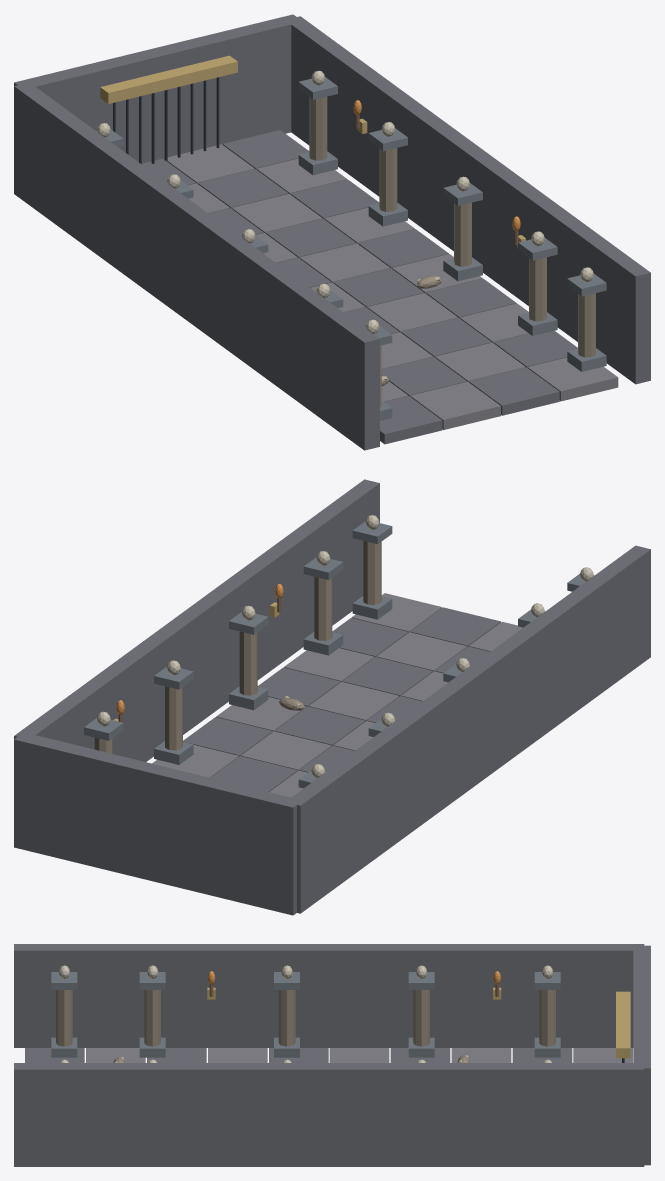
Rendered from environment_bone_passage.glb.
3 views of the same model, one above another, from view 1: azimuth 30°, elevation 25°; view 2: azimuth 150°, elevation 25°; view 3: azimuth 270°, elevation 25° (orthographic). The views are drawn at different scales.
Parts seen in each view (by area): view 1: left_corridor_wall, right_corridor_wall, far_end_wall, end_gate_lintel, passage_tile_1_9, passage_tile_2_9, passage_tile_3_9, passage_tile_2_3, passage_tile_2_1, passage_tile_2_4, passage_tile_2_5, passage_tile_2_6 (+26 smaller); view 2: left_corridor_wall, far_end_wall, right_corridor_wall, passage_tile_2_4, passage_tile_2_6, passage_tile_2_9, passage_tile_2_7, passage_tile_2_8, passage_tile_2_5, passage_tile_3_4, passage_tile_3_6, passage_tile_3_7 (+14 smaller); view 3: right_corridor_wall, left_corridor_wall, far_end_wall, end_gate_lintel, passage_bone_pillar_2, passage_bone_pillar, passage_bone_pillar_1, passage_bone_pillar_3, passage_bone_pillar_4, passage_tile_0_4, passage_tile_0_6, passage_tile_0_2 (+17 smaller).
Part boxes in pixels (x1,y1,x2,y2): left_corridor_wall: (14,82,379,450); right_corridor_wall: (286,16,650,384); far_end_wall: (14,14,298,163); end_gate_lintel: (100,55,237,103); passage_tile_1_9: (410,381,500,429); passage_tile_2_9: (469,367,559,415); passage_tile_3_9: (527,357,618,401); passage_tile_2_3: (265,218,356,258); passage_tile_2_1: (198,169,288,208); passage_tile_2_4: (299,243,389,282); passage_tile_2_5: (333,268,423,307); passage_tile_2_6: (367,293,457,332); left_corridor_wall: (287,545,650,913); far_end_wall: (14,732,301,915); right_corridor_wall: (14,479,379,761); passage_tile_2_4: (241,731,331,770); passage_tile_2_6: (308,682,399,721); passage_tile_2_9: (410,607,500,646); passage_tile_2_7: (342,657,433,696); passage_tile_2_8: (376,632,466,671); passage_tile_2_5: (275,706,365,745); passage_tile_3_4: (183,717,272,756); passage_tile_3_6: (257,667,340,706); passage_tile_3_7: (284,648,374,682); right_corridor_wall: (14,1063,644,1166); left_corridor_wall: (14,944,644,1047); far_end_wall: (633,945,650,1165); end_gate_lintel: (616,991,630,1058); passage_bone_pillar_2: (278,990,295,1046); passage_bone_pillar: (539,990,555,1046); passage_bone_pillar_1: (413,990,429,1046); passage_bone_pillar_3: (144,990,160,1046); passage_bone_pillar_4: (56,990,72,1046); passage_tile_0_4: (329,1048,389,1062); passage_tile_0_6: (208,1048,267,1062); passage_tile_0_2: (451,1048,511,1062).
Size of the model in its own units: 7.08 by 2.66 by 15.16.
